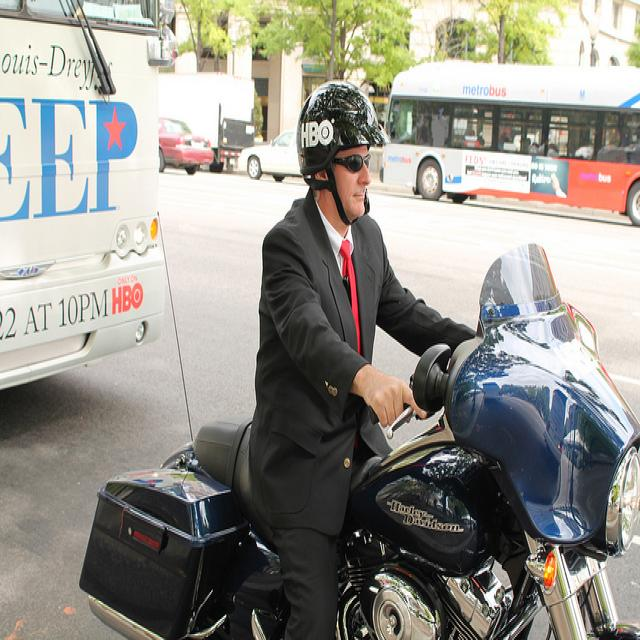motor: (81, 237, 639, 632)
